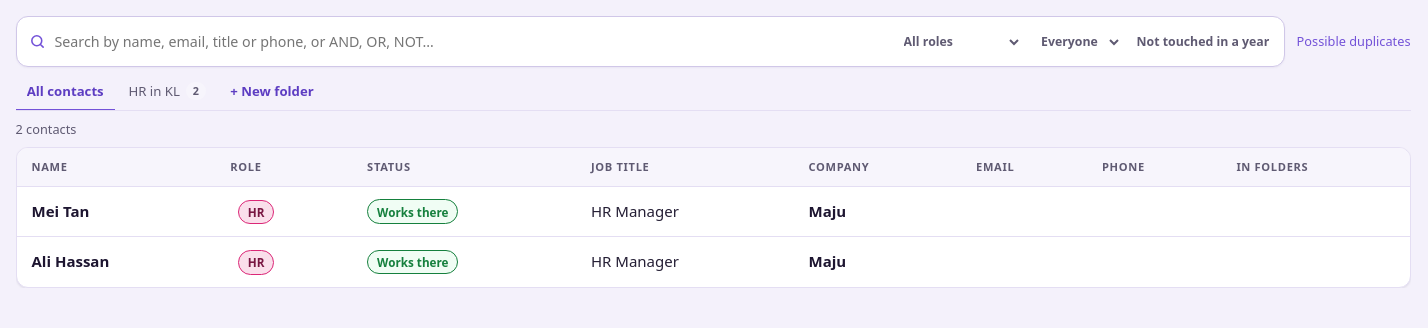
Test case: folders on a list › chooses rows to put in a folder, without email for those who may not send it
Click the text "HR Manager" in the row of "Ali Hassan" at (635, 261), box [576,237,794,287]
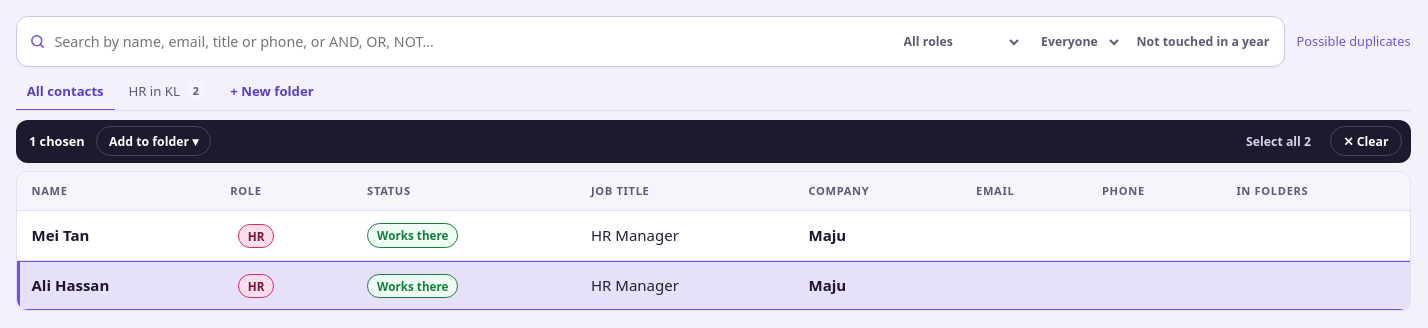
expect the text "1 chosen" is shown: met, box [29,132,85,151]
expect the button "Add to folder ▾" is shown: met, box [96,126,211,156]
